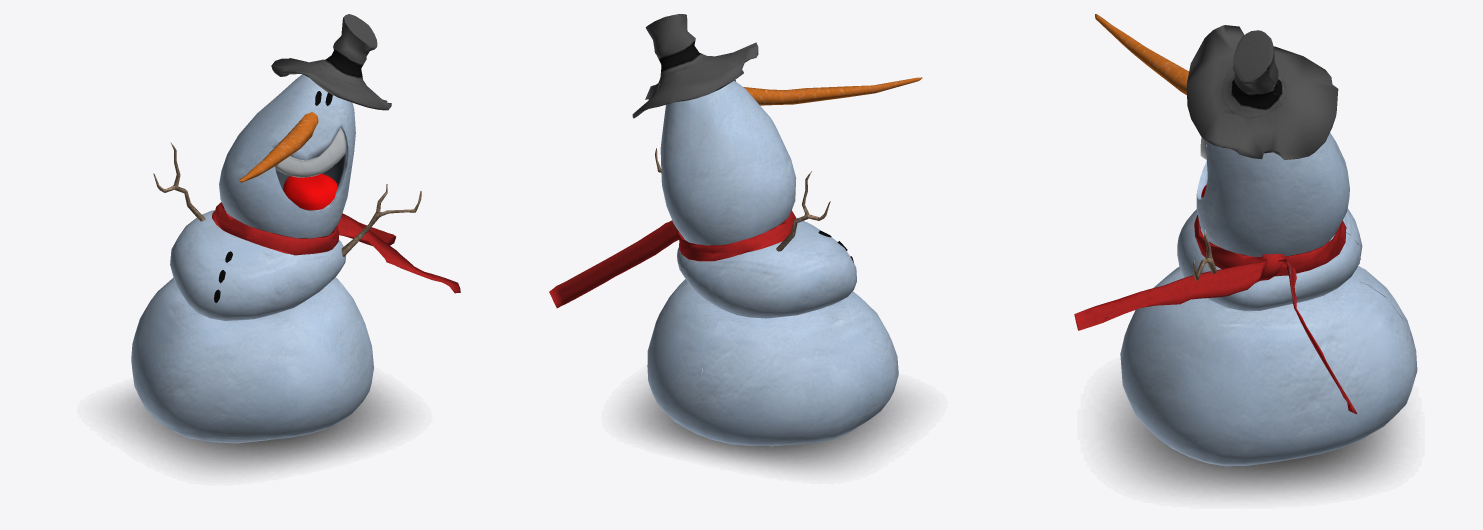
The model's file is Snowman.gltf.
3 views of the same model, side by side, from view 1: azimuth 30°, elevation 25°; view 2: azimuth 150°, elevation 25°; view 3: azimuth 270°, elevation 25° (orthographic). The views are drawn at different scales.
Visible parts, largest first — view 1: happy_snowman.1, Shadow, happy_snowman.004, happy_snowman.007, geo3_cloth, happy_snowman.005; view 2: happy_snowman.1, Shadow, happy_snowman.004, geo2_cloth; view 3: happy_snowman.1, happy_snowman.004, Shadow, geo3_cloth, geo2_cloth.
Part boxes in pixels (x1,y1,x2,y2): happy_snowman.1: (131,74,373,443); Shadow: (109,382,403,472); happy_snowman.004: (271,14,391,110); happy_snowman.007: (283,173,337,210); geo3_cloth: (337,213,460,293); happy_snowman.005: (341,184,421,256); happy_snowman.1: (647,59,922,446); Shadow: (627,384,915,471); happy_snowman.004: (632,14,758,118); geo2_cloth: (549,220,683,308); happy_snowman.1: (1095,14,1417,466); happy_snowman.004: (1186,25,1338,159); Shadow: (1103,383,1401,496); geo3_cloth: (1074,259,1267,330); geo2_cloth: (1278,258,1356,414).
Size of the model in its own units: 5.34 by 5.72 by 4.92.
2 materials, 2 textured.
